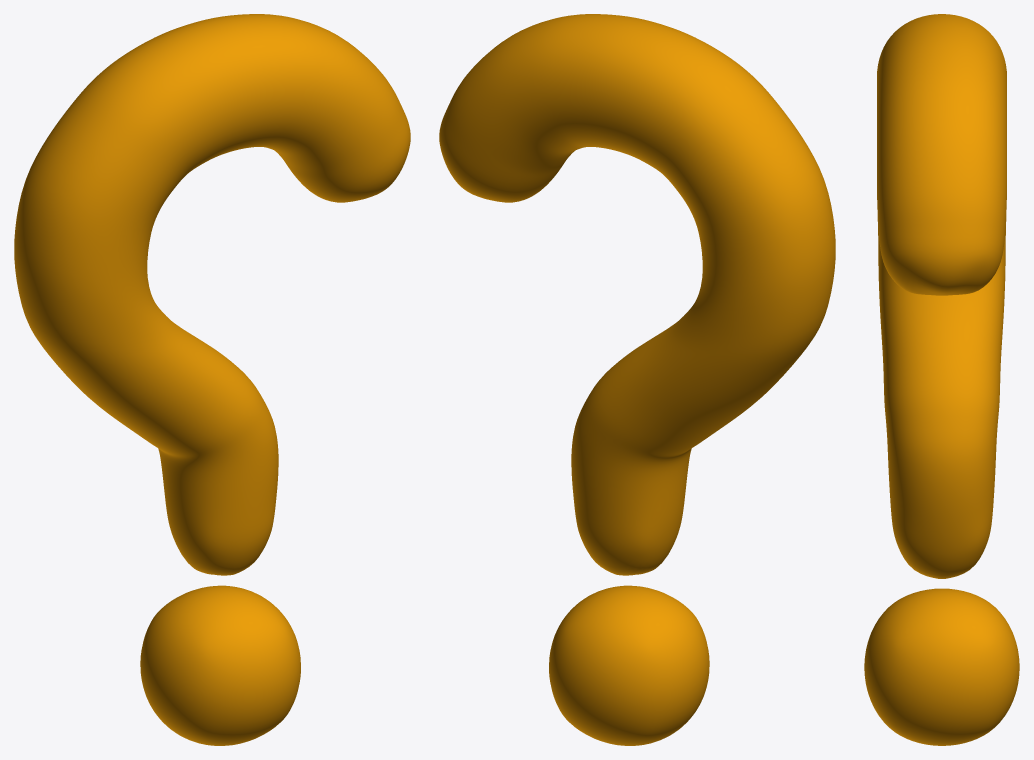
File: 물음표.fbx
The picture shows the model from 3 angles, left to right: view 1: azimuth 30°, elevation 25°; view 2: azimuth 150°, elevation 25°; view 3: azimuth 270°, elevation 25°; orthographic projection.
Parts seen in each view (by area): view 1: 물음표; view 2: 물음표; view 3: 물음표.
Part boxes in pixels (bbox=[...]): 물음표: bbox=[14, 14, 410, 745]; 물음표: bbox=[439, 14, 835, 745]; 물음표: bbox=[864, 14, 1019, 745].
Size of the model in its own units: 359 by 130 by 646.
